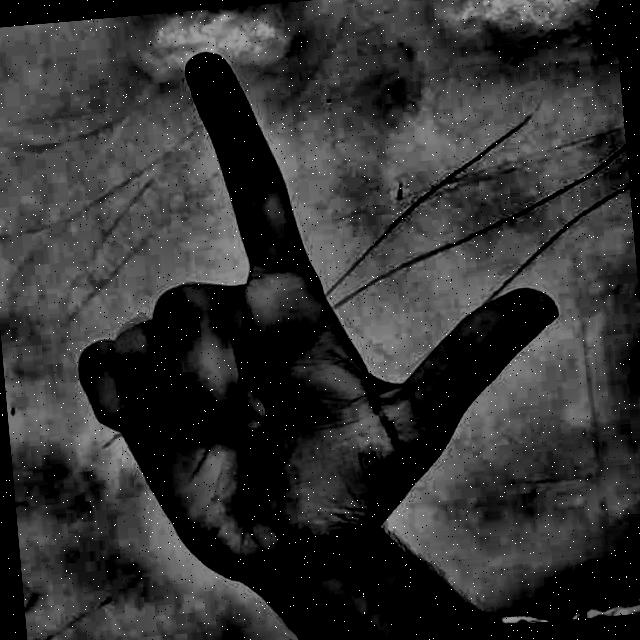La: (10, 0, 597, 640)
